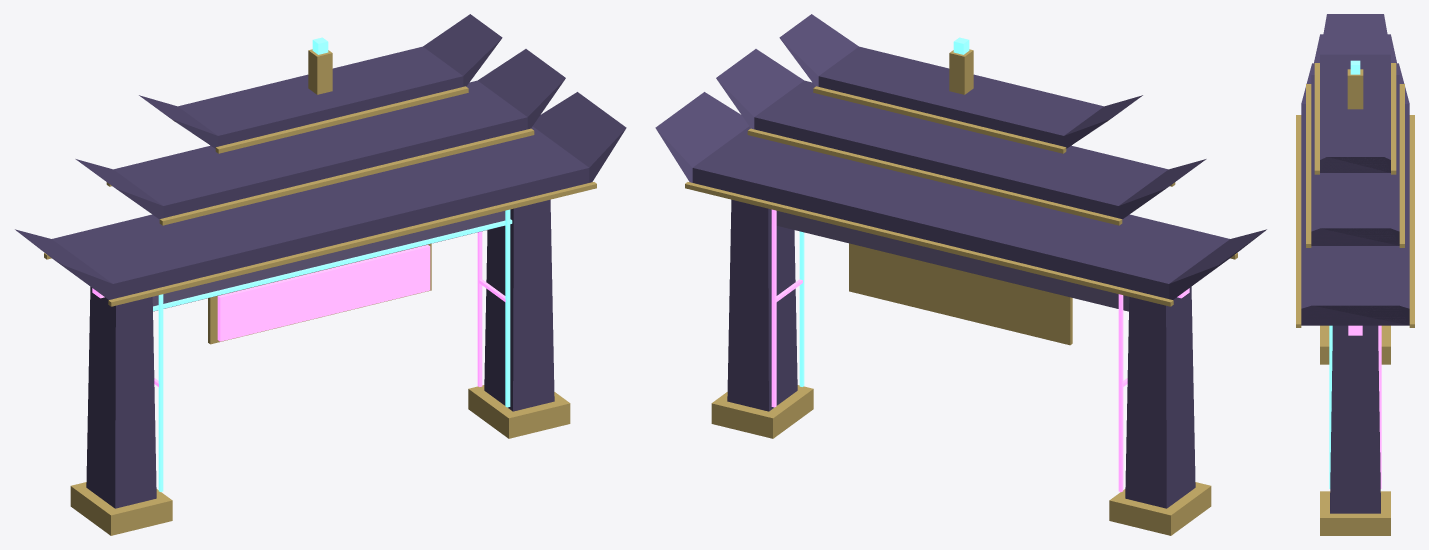
The model's file is neongate.glb.
3 views of the same model, side by side, from view 1: azimuth 30°, elevation 25°; view 2: azimuth 150°, elevation 25°; view 3: azimuth 270°, elevation 25° (orthographic). The views are drawn at different scales.
Visible parts, largest first — view 1: Roof1, Roof2, Pillar-1, Pillar1, Roof3, Banner, Roof1_eave1, Lintel, Roof1_trim, Roof2_eave1, Roof2_trim, Base-1 (+12 smaller); view 2: Roof1, Roof2, Pillar-1, Pillar1, Roof3, BannerFrame, Lintel, Roof1_eave1, Roof1_trimB, Roof2_eave1, Roof2_trimB, Base-1 (+10 smaller); view 3: Pillar1, Roof1, Roof3, Roof2, Roof3_eave-1, Roof1_eave1, Base1, Roof2_eave1, Roof1_trim, Roof1_trimB, Roof3_eave1, Roof2_trim (+11 smaller).
Boxes of the visible parts, x1,y1,x2,y2 form: Roof1: (52,126,589,298); Roof2: (113,80,527,218); Pillar-1: (86,286,156,508); Pillar1: (484,199,554,411); Roof3: (178,46,463,146); Banner: (217,245,430,341); Roof1_eave1: (533,92,626,182); Lintel: (152,209,510,311); Roof1_trim: (108,182,596,306); Roof2_eave1: (478,49,565,129); Roof2_trim: (159,128,534,225); Base-1: (70,482,172,535); Roof1: (692,126,1229,298); Roof2: (754,80,1168,218); Pillar-1: (1125,286,1195,508); Pillar1: (727,199,797,411); Roof3: (818,46,1103,146); BannerFrame: (849,243,1072,345); Lintel: (771,209,1129,311); Roof1_eave1: (655,92,748,182); Roof1_trimB: (685,182,1173,306); Roof2_eave1: (716,49,803,129); Roof2_trimB: (747,128,1122,225); Base-1: (1109,482,1211,535); Pillar1: (1330,325,1380,513); Roof1: (1301,104,1409,308); Roof3: (1320,54,1390,159); Roof2: (1311,75,1399,231); Roof3_eave-1: (1320,14,1390,54); Roof1_eave1: (1301,305,1409,325); Base1: (1320,491,1390,535); Roof2_eave1: (1311,228,1399,245); Roof1_trim: (1296,115,1301,327); Roof1_trimB: (1409,115,1414,327); Roof3_eave1: (1320,157,1390,172); Roof2_trim: (1306,84,1311,247).
Size of the model in its own units: 40.2 by 28.95 by 8.32.
